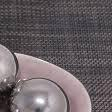ironball: (4, 74, 71, 111), (0, 37, 27, 104), (0, 89, 1, 111)
